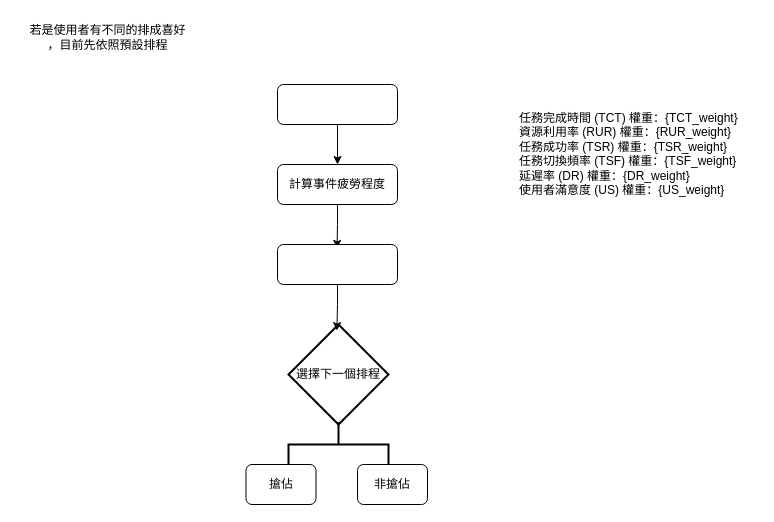
Some shapes in this 774 by 522 pixel diagram are drawn without their labels. Here are the shapes that lost their labels. From the top down, the centre of each, then its label:
At point 337,104: "計算使用者疲勞程度".
At point 337,264: "計算做完事件後的疲勞程度".
